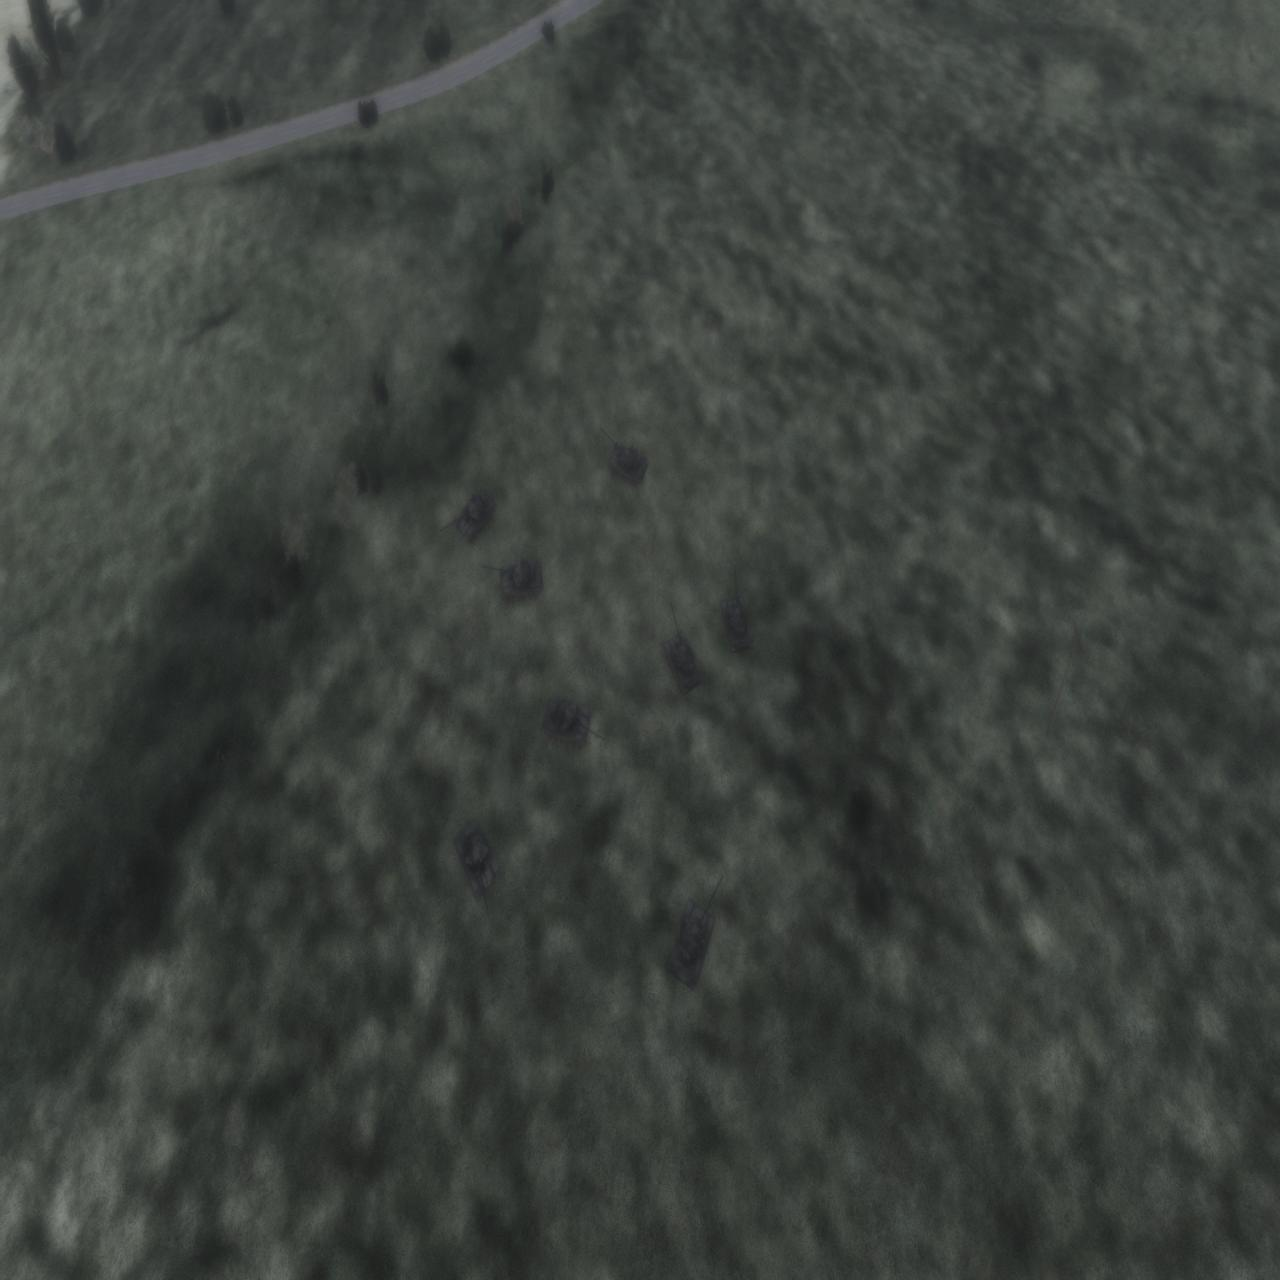MIL_Veh: (668, 871, 723, 980), (453, 815, 499, 919), (660, 601, 704, 696), (596, 419, 649, 491), (544, 685, 606, 744), (442, 487, 496, 547), (722, 570, 755, 658), (483, 558, 547, 602)
